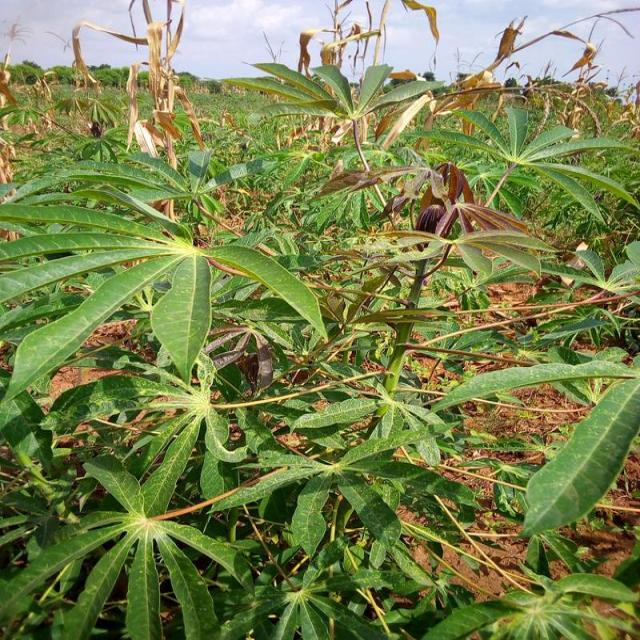cassava leaf: (518, 372, 638, 539), (149, 251, 212, 385)
